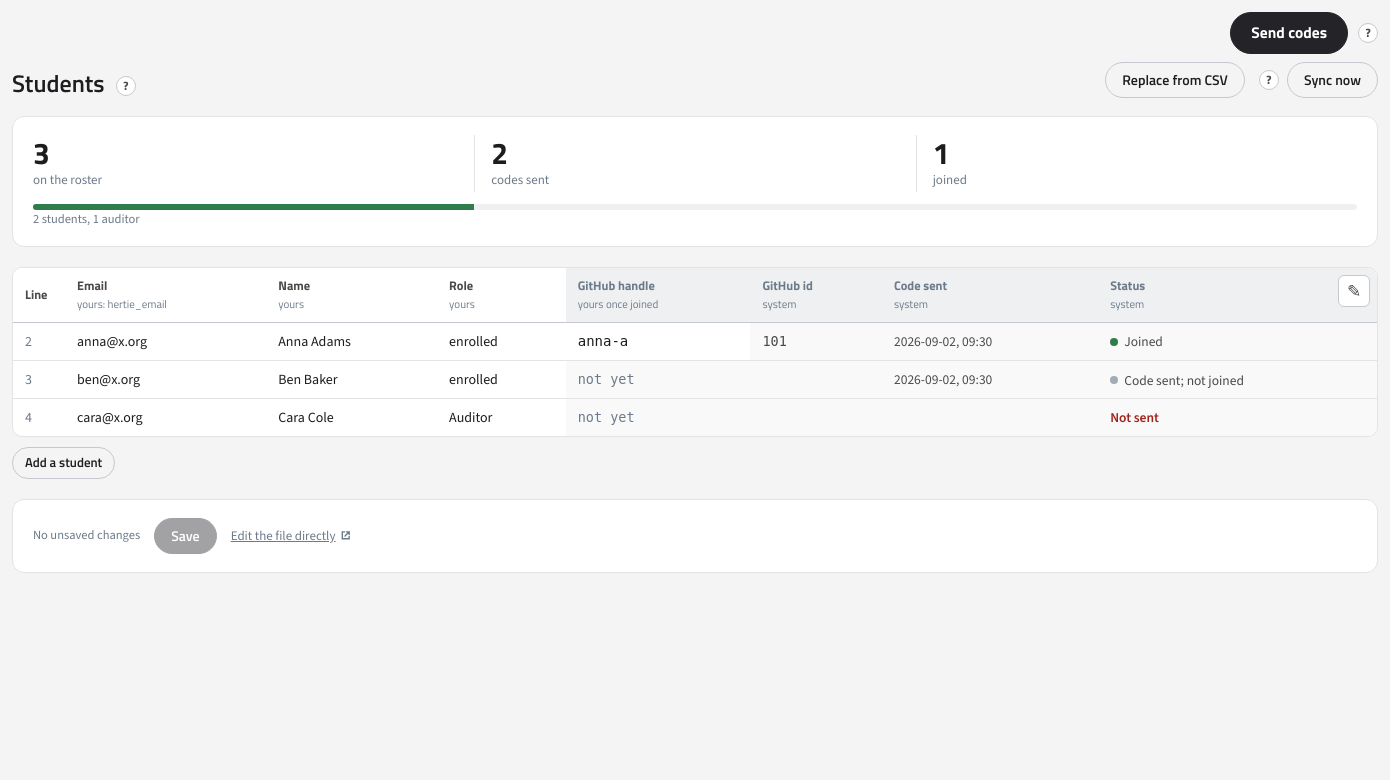
Test: Edit roster: add and remove › refuses an added row without a name, or with an email that is not an address
Step 1. Click the button "Add a student" → (64, 463), box [12, 447, 115, 479]
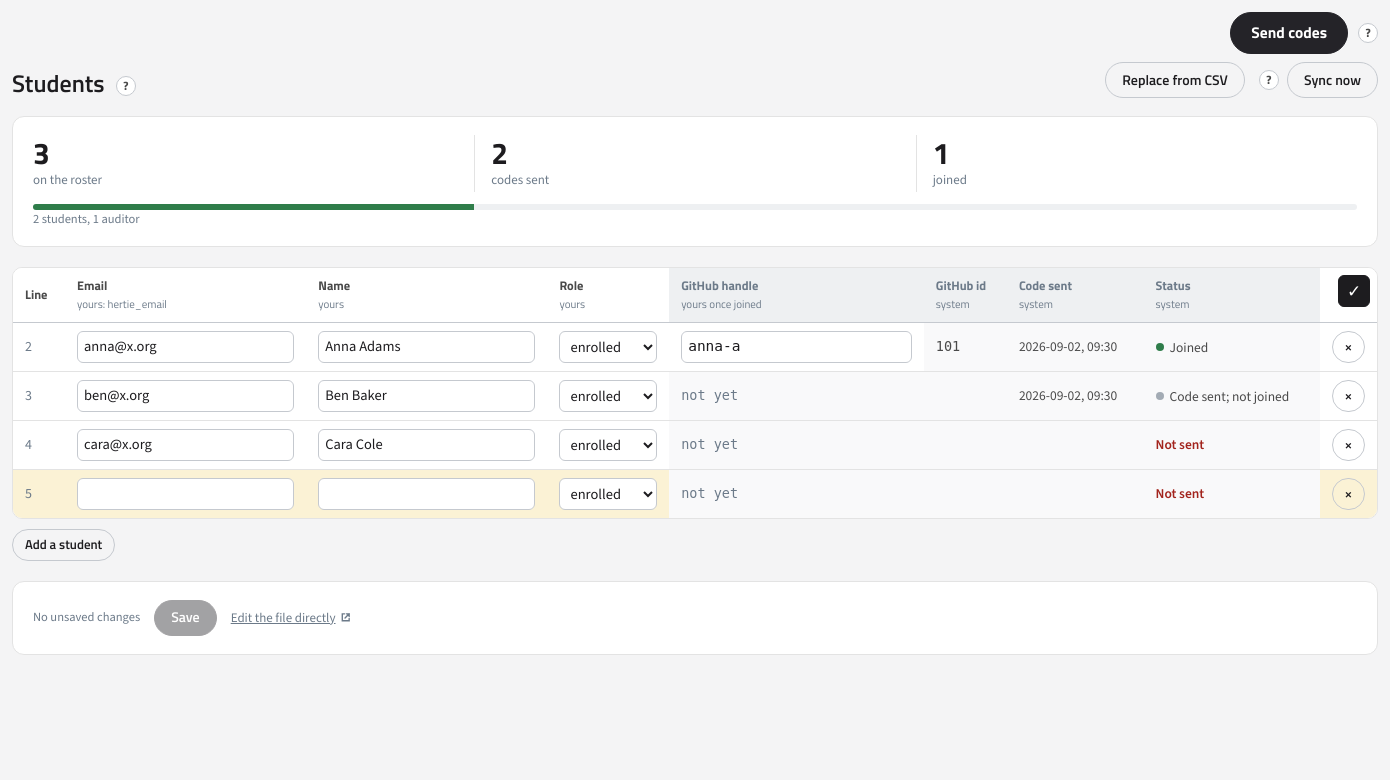
Step 2. Type "dan@x.org" into the field named "Email, line 5" → (186, 494), box [77, 478, 294, 510]
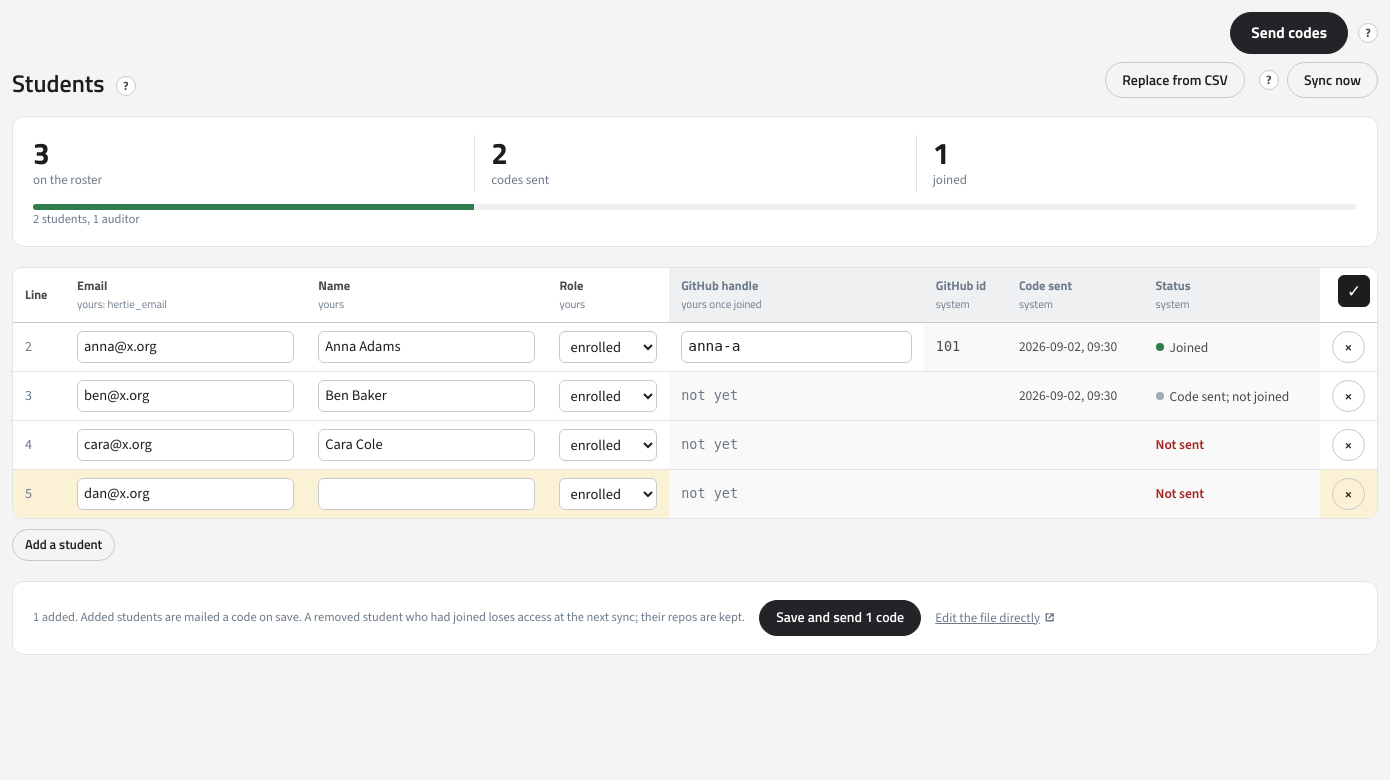
Step 3. Click the button "Save and send 1 code" → (840, 618), box [759, 600, 921, 636]
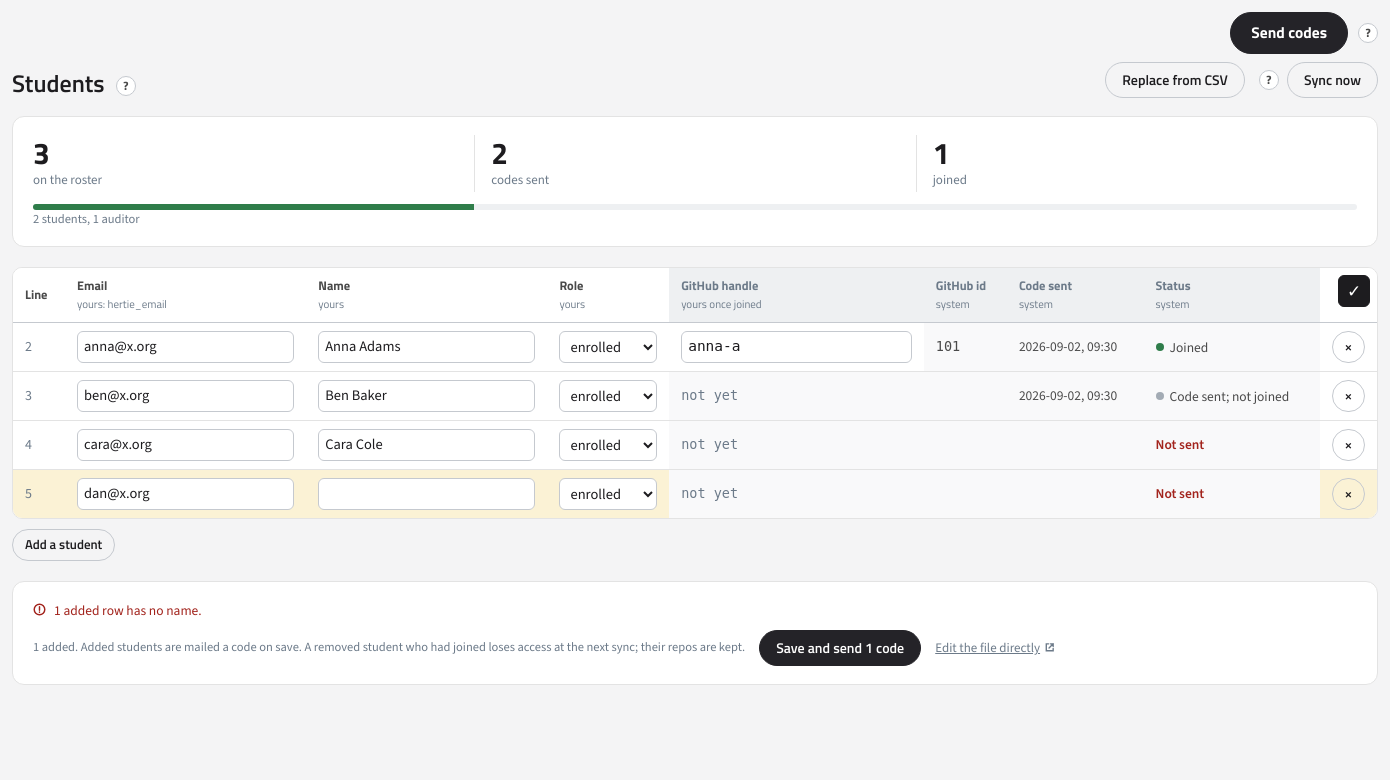
Expected: the text "1 added row has no name." is shown, [54, 600, 202, 620]
Step 4. Type "Dan Dorn" into the field named "Name, line 5" → (427, 494), box [318, 478, 535, 510]
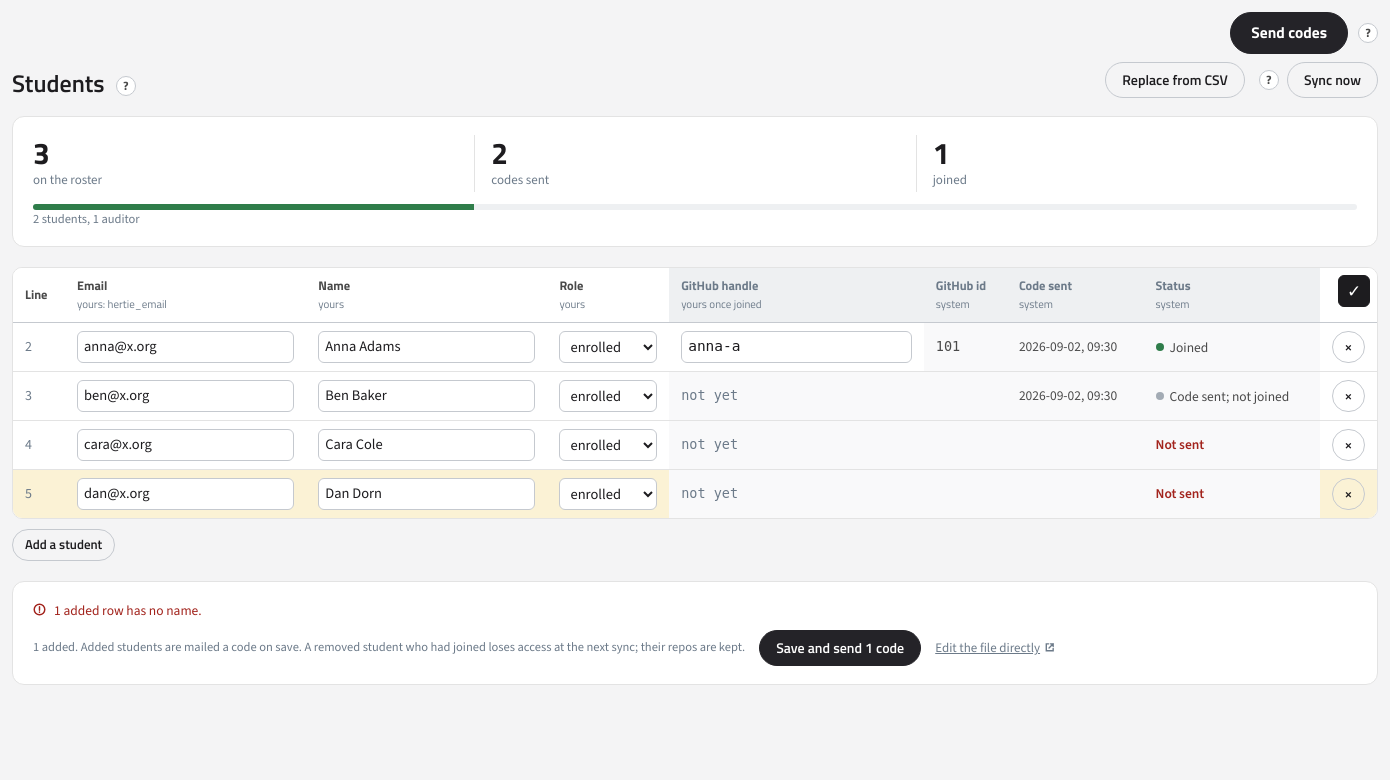
Step 5. Replace the text in the field named "Email, line 5" with "dan" → (186, 494), box [77, 478, 294, 510]
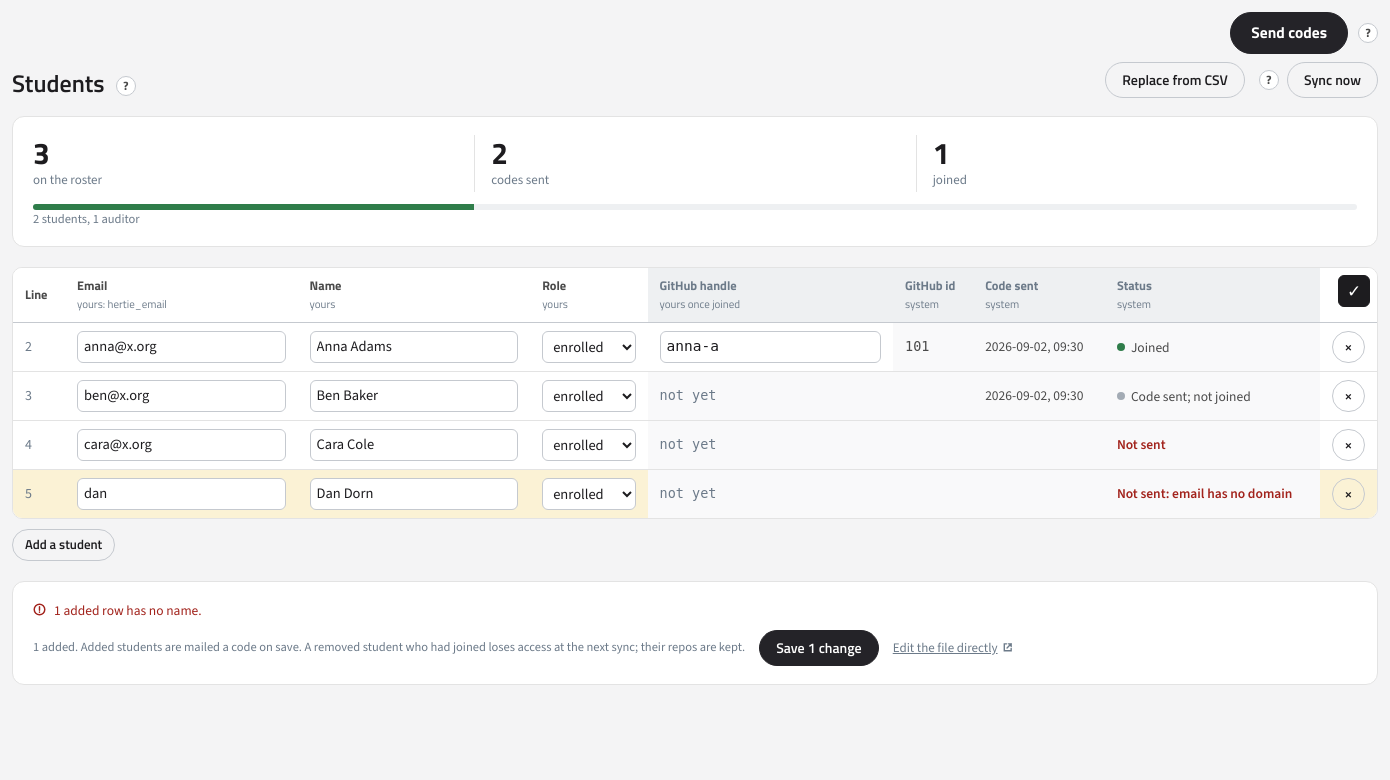
Step 6. Click the button "Save 1 change" → (819, 648), box [759, 630, 879, 666]
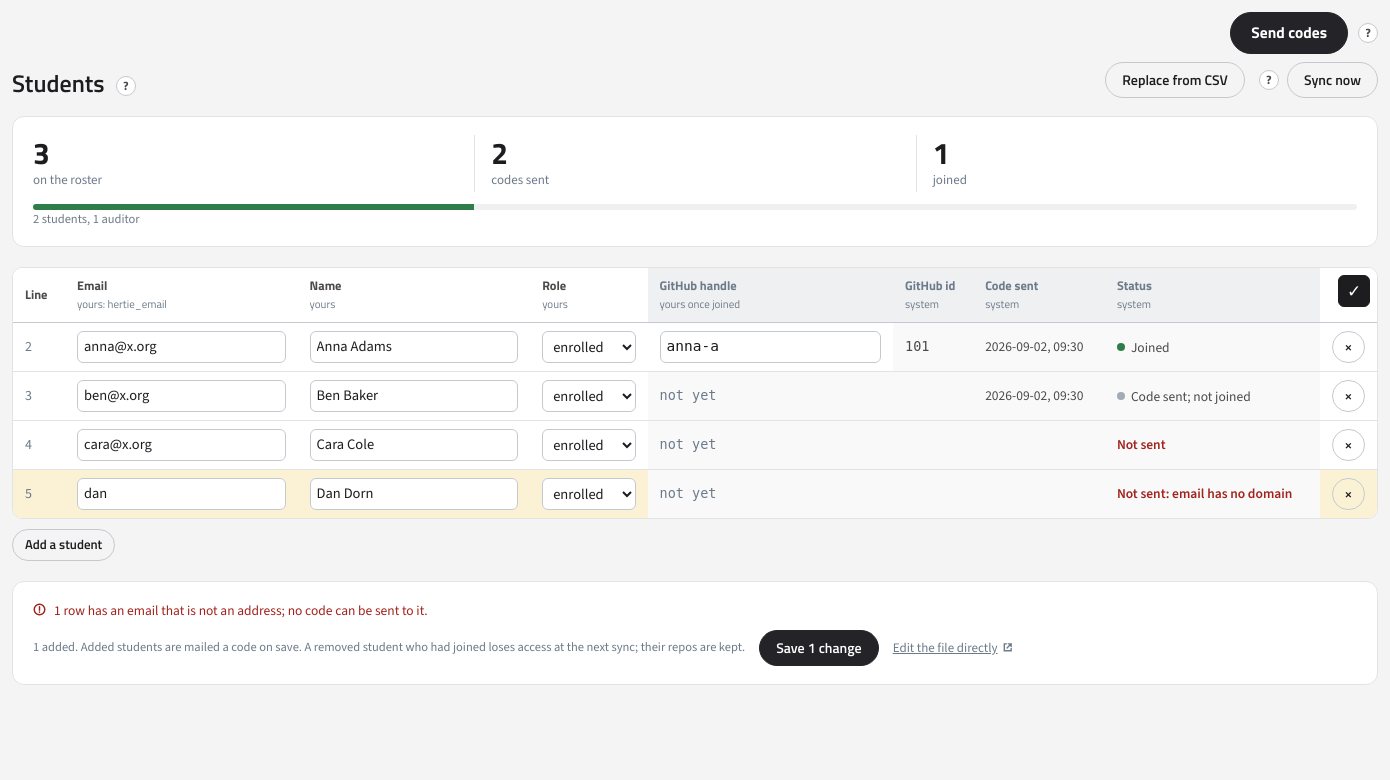
Expected: the text "1 row has an email that is not an address" is shown, [54, 600, 428, 618]
